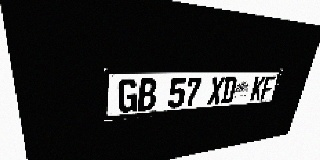5: (168, 78, 187, 109)
7: (183, 77, 202, 107)
B: (137, 78, 157, 111)
D: (220, 77, 238, 104)
F: (260, 76, 276, 100)
G: (118, 79, 138, 113)
K: (250, 76, 266, 101)
X: (207, 77, 225, 105)
